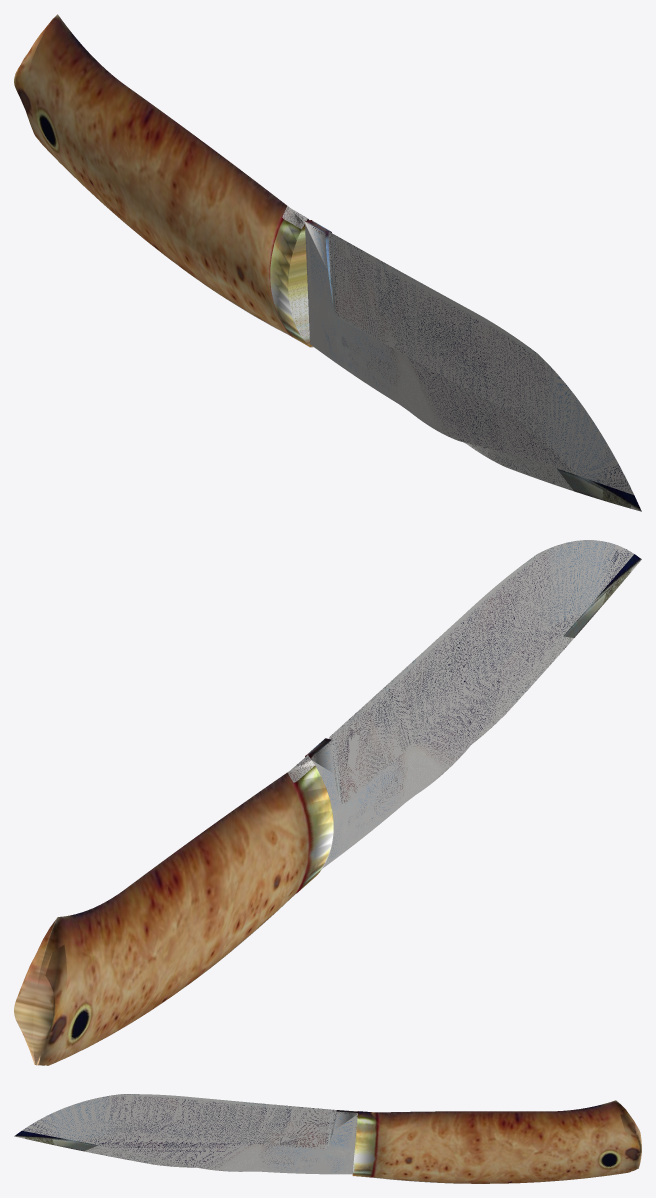
File: model_align.obj
The picture shows the model from 3 angles, top to bottom: view 1: azimuth 30°, elevation 25°; view 2: azimuth 150°, elevation 25°; view 3: azimuth 270°, elevation 25°; orthographic projection. The views are drawn at different scales.
Parts seen in each view (by area): view 1: mesh1_mesh1-geometry; view 2: mesh1_mesh1-geometry; view 3: mesh1_mesh1-geometry.
Part boxes in pixels (x1,y1,x2,y2): mesh1_mesh1-geometry: (14,14,641,511); mesh1_mesh1-geometry: (14,540,641,1065); mesh1_mesh1-geometry: (14,1094,641,1183).
Size of the model in its own units: 0.0092 by 0.0334 by 0.213.
Materials: 4 (3 with a texture image).
